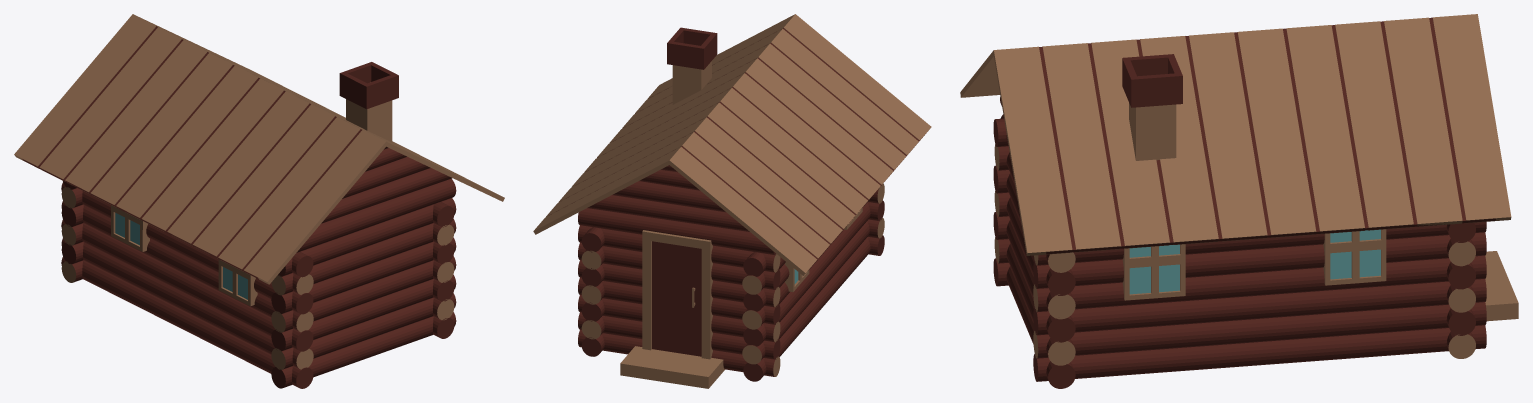
File: Cabin.obj
3 renders of one model, left to right at view 1: azimuth 30°, elevation 25°; view 2: azimuth 150°, elevation 25°; view 3: azimuth 270°, elevation 25°, orthographic. The views are drawn at different scales.
Visible parts, largest first — view 1: Box057, Box053, Box065, Box052, Box055, Box063, Box058, Box056, Box059, Box064, Box042, Cylinder051 (+23 smaller); view 2: Box050, Box052, Box057, Box059, Box065, Box063, Box064, Box053, Box055, Box056, Box058, Cylinder072 (+41 smaller); view 3: Box070, Cylinder047, Cylinder039, Cylinder058, Box060, Box067, Box066, Box069, Box051, Box054, Box068, Box062 (+26 smaller).
Part boxes in pixels (x1,y1,x2,y2): Box057: [244, 130, 385, 284]; Box053: [218, 117, 360, 271]; Box065: [91, 52, 232, 206]; Box052: [14, 14, 156, 166]; Box055: [116, 65, 258, 219]; Box063: [142, 78, 283, 231]; Box058: [65, 40, 206, 193]; Box056: [193, 104, 334, 258]; Box059: [39, 27, 181, 179]; Box064: [167, 91, 309, 243]; Box042: [22, 27, 361, 279]; Cylinder051: [61, 219, 313, 351]; Box050: [652, 241, 701, 356]; Box052: [669, 147, 817, 275]; Box057: [784, 14, 931, 140]; Box059: [682, 132, 829, 258]; Box065: [707, 102, 855, 228]; Box063: [733, 73, 880, 199]; Box064: [746, 58, 893, 184]; Box053: [771, 29, 918, 154]; Box055: [720, 88, 867, 214]; Box056: [758, 43, 905, 169]; Box058: [694, 117, 842, 243]; Cylinder072: [578, 208, 776, 255]; Box070: [993, 46, 1072, 255]; Cylinder047: [1033, 279, 1486, 335]; Cylinder039: [1033, 302, 1486, 358]; Cylinder058: [1033, 325, 1486, 381]; Box060: [1384, 17, 1462, 226]; Box067: [1432, 14, 1511, 223]; Box066: [1237, 28, 1316, 237]; Box069: [1042, 43, 1121, 252]; Box051: [1286, 25, 1364, 234]; Box054: [1189, 32, 1267, 241]; Box068: [1335, 21, 1413, 230]; Box062: [1091, 39, 1169, 248].
Bounding box in the file's own units: 487220 × 341113 × 583749.
